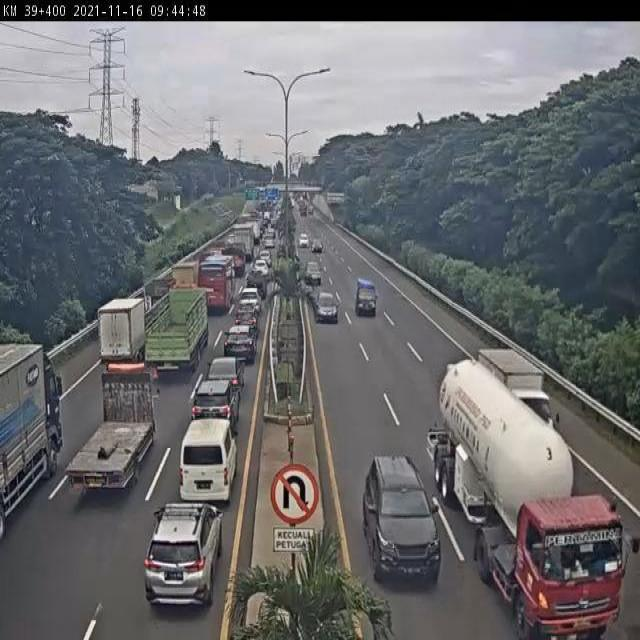ARABA: (360, 452, 441, 587), (143, 505, 221, 612), (188, 382, 236, 447), (205, 355, 246, 396), (223, 327, 255, 365), (353, 276, 380, 319), (232, 308, 259, 335), (236, 288, 261, 316), (318, 285, 338, 320)
KAMYONET: (63, 364, 160, 492), (482, 351, 555, 445), (99, 298, 152, 366), (169, 256, 202, 303), (142, 278, 180, 318)
OTOBUS: (177, 422, 237, 507), (194, 253, 234, 316)
TIR: (441, 358, 631, 640), (0, 337, 66, 547), (145, 289, 208, 376)
